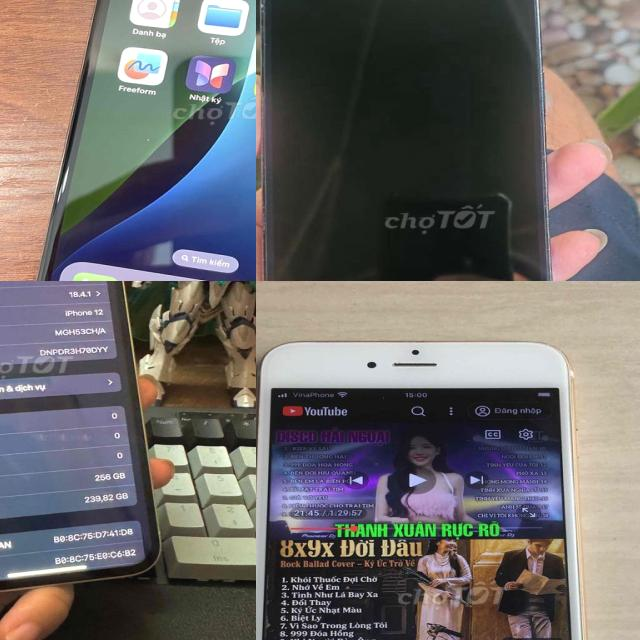gen_12_13: (261, 0, 551, 281), (0, 281, 163, 594)
gen_6: (256, 342, 584, 640)
gen_x_xs: (37, 0, 256, 281)
